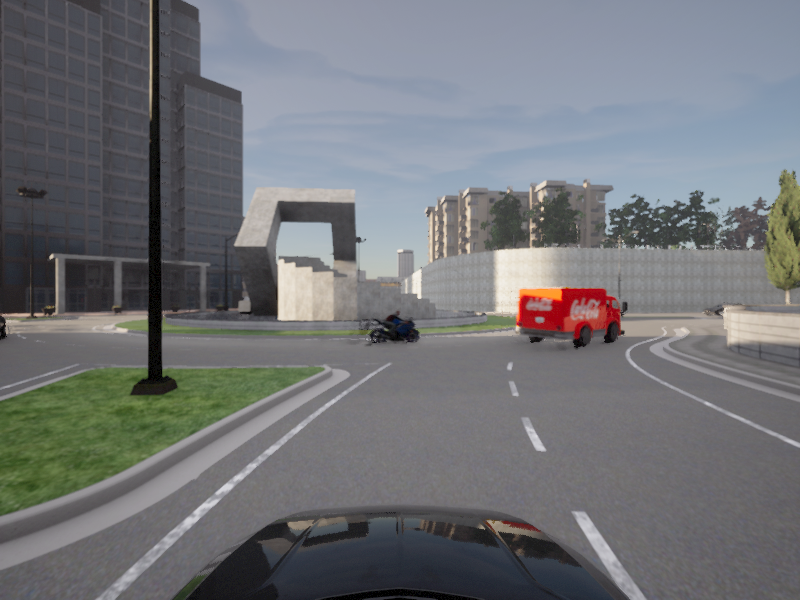vehicle: (511, 287, 633, 351), (369, 309, 422, 346), (0, 305, 9, 351)
